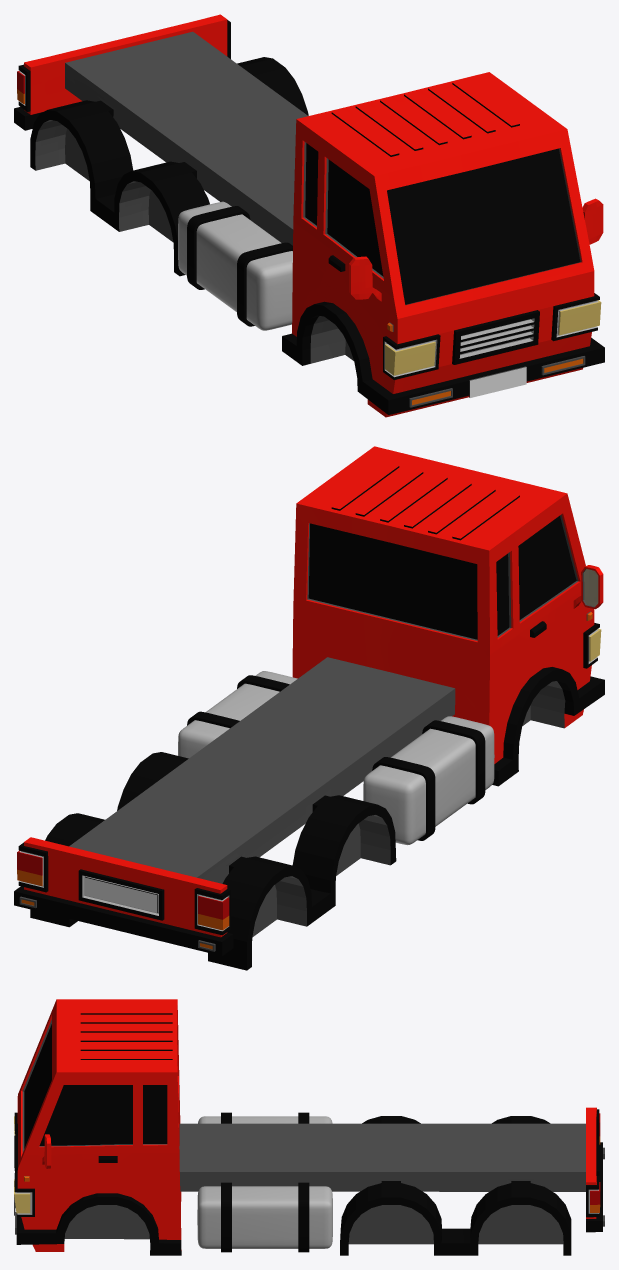
File: EmptyTruck.fbx
3 renders of one model, top to bottom at view 1: azimuth 30°, elevation 25°; view 2: azimuth 150°, elevation 25°; view 3: azimuth 270°, elevation 25°, orthographic. The views are drawn at different scales.
Parts seen in each view (by area): view 1: EmptyTruck.Body.Mesh; view 2: EmptyTruck.Body.Mesh; view 3: EmptyTruck.Body.Mesh.
Part boxes in pixels (x1,y1,x2,y2): EmptyTruck.Body.Mesh: (14,14,604,417); EmptyTruck.Body.Mesh: (14,446,604,970); EmptyTruck.Body.Mesh: (14,999,604,1255).
Size of the model in its own units: 1.03 by 0.9046 by 2.69.
